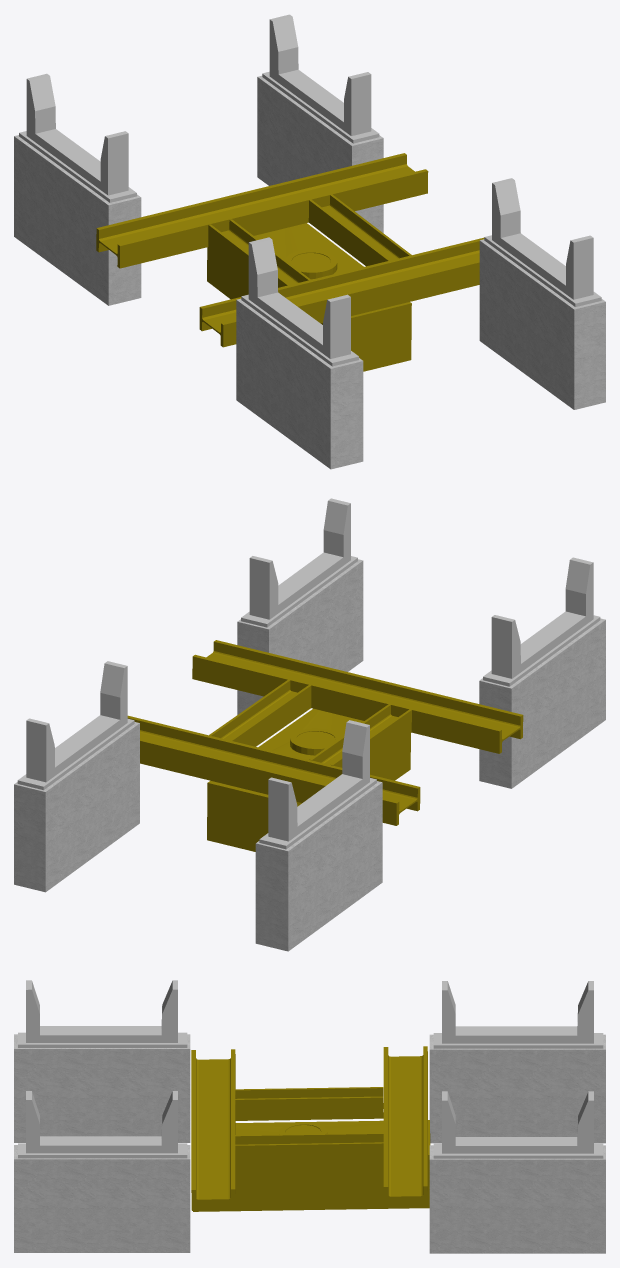
Rendered from ccm.dae.
The picture shows the model from 3 angles, top to bottom: view 1: azimuth 30°, elevation 25°; view 2: azimuth 150°, elevation 25°; view 3: azimuth 270°, elevation 25°; orthographic projection. The views are drawn at different scales.
Visible parts, largest first — view 1: mesh5-geometry_material0_IndexedFaceSet, mesh10-geometry_material1_IndexedFaceSet, mesh15-geometry_material1_IndexedFaceSet, mesh16-geometry_material1_IndexedFaceSet, mesh3-geometry_material0_IndexedFaceSet, mesh9-geometry_material0_IndexedFaceSet, mesh21-geometry_material1_IndexedFaceSet, mesh18-geometry_material2_IndexedFaceSet, mesh12-geometry_material2_IndexedFaceSet, mesh19-geometry_material2_IndexedFaceSet, mesh13-geometry_material2_IndexedFaceSet, mesh1-geometry_material0_IndexedFaceSet (+5 smaller); view 2: mesh16-geometry_material1_IndexedFaceSet, mesh21-geometry_material1_IndexedFaceSet, mesh3-geometry_material0_IndexedFaceSet, mesh10-geometry_material1_IndexedFaceSet, mesh5-geometry_material0_IndexedFaceSet, mesh15-geometry_material1_IndexedFaceSet, mesh9-geometry_material0_IndexedFaceSet, mesh12-geometry_material2_IndexedFaceSet, mesh18-geometry_material2_IndexedFaceSet, mesh13-geometry_material2_IndexedFaceSet, mesh19-geometry_material2_IndexedFaceSet, mesh1-geometry_material0_IndexedFaceSet (+5 smaller); view 3: mesh21-geometry_material1_IndexedFaceSet, mesh15-geometry_material1_IndexedFaceSet, mesh16-geometry_material1_IndexedFaceSet, mesh10-geometry_material1_IndexedFaceSet, mesh9-geometry_material0_IndexedFaceSet, mesh3-geometry_material0_IndexedFaceSet, mesh5-geometry_material0_IndexedFaceSet, mesh1-geometry_material0_IndexedFaceSet, mesh7-geometry_material0_IndexedFaceSet, mesh18-geometry_material2_IndexedFaceSet, mesh13-geometry_material2_IndexedFaceSet, mesh19-geometry_material2_IndexedFaceSet (+5 smaller).
Boxes of the visible parts, x1=… form: mesh5-geometry_material0_IndexedFaceSet: x1=96, y1=153, x2=428, y2=268; mesh10-geometry_material1_IndexedFaceSet: x1=236, y1=298, x2=363, y2=469; mesh15-geometry_material1_IndexedFaceSet: x1=479, y1=239, x2=605, y2=409; mesh16-geometry_material1_IndexedFaceSet: x1=14, y1=135, x2=141, y2=305; mesh3-geometry_material0_IndexedFaceSet: x1=199, y1=237, x2=484, y2=347; mesh9-geometry_material0_IndexedFaceSet: x1=207, y1=223, x2=411, y2=371; mesh21-geometry_material1_IndexedFaceSet: x1=257, y1=75, x2=383, y2=232; mesh18-geometry_material2_IndexedFaceSet: x1=26, y1=73, x2=128, y2=195; mesh12-geometry_material2_IndexedFaceSet: x1=248, y1=237, x2=350, y2=358; mesh19-geometry_material2_IndexedFaceSet: x1=269, y1=14, x2=371, y2=135; mesh13-geometry_material2_IndexedFaceSet: x1=492, y1=178, x2=593, y2=299; mesh1-geometry_material0_IndexedFaceSet: x1=308, y1=194, x2=411, y2=266; mesh16-geometry_material1_IndexedFaceSet: x1=255, y1=781, x2=382, y2=951; mesh21-geometry_material1_IndexedFaceSet: x1=14, y1=722, x2=139, y2=892; mesh3-geometry_material0_IndexedFaceSet: x1=192, y1=640, x2=523, y2=753; mesh10-geometry_material1_IndexedFaceSet: x1=479, y1=618, x2=605, y2=788; mesh5-geometry_material0_IndexedFaceSet: x1=127, y1=715, x2=420, y2=825; mesh15-geometry_material1_IndexedFaceSet: x1=237, y1=559, x2=363, y2=714; mesh9-geometry_material0_IndexedFaceSet: x1=207, y1=708, x2=410, y2=851; mesh12-geometry_material2_IndexedFaceSet: x1=491, y1=557, x2=593, y2=678; mesh18-geometry_material2_IndexedFaceSet: x1=268, y1=720, x2=369, y2=841; mesh13-geometry_material2_IndexedFaceSet: x1=249, y1=498, x2=350, y2=619; mesh19-geometry_material2_IndexedFaceSet: x1=26, y1=661, x2=127, y2=782; mesh1-geometry_material0_IndexedFaceSet: x1=209, y1=679, x2=311, y2=746; mesh21-geometry_material1_IndexedFaceSet: x1=429, y1=1145, x2=605, y2=1253; mesh15-geometry_material1_IndexedFaceSet: x1=14, y1=1145, x2=190, y2=1252; mesh16-geometry_material1_IndexedFaceSet: x1=429, y1=1034, x2=605, y2=1143; mesh10-geometry_material1_IndexedFaceSet: x1=14, y1=1034, x2=190, y2=1142; mesh9-geometry_material0_IndexedFaceSet: x1=193, y1=1120, x2=430, y2=1211; mesh3-geometry_material0_IndexedFaceSet: x1=191, y1=1049, x2=235, y2=1210; mesh5-geometry_material0_IndexedFaceSet: x1=383, y1=1046, x2=427, y2=1207; mesh1-geometry_material0_IndexedFaceSet: x1=235, y1=1132, x2=383, y2=1166; mesh7-geometry_material0_IndexedFaceSet: x1=234, y1=1087, x2=383, y2=1120; mesh18-geometry_material2_IndexedFaceSet: x1=442, y1=981, x2=593, y2=1043; mesh13-geometry_material2_IndexedFaceSet: x1=26, y1=1091, x2=177, y2=1153; mesh19-geometry_material2_IndexedFaceSet: x1=442, y1=1091, x2=593, y2=1153.
Bounding box in the file's own units: 3 × 1.54 × 5.36.
